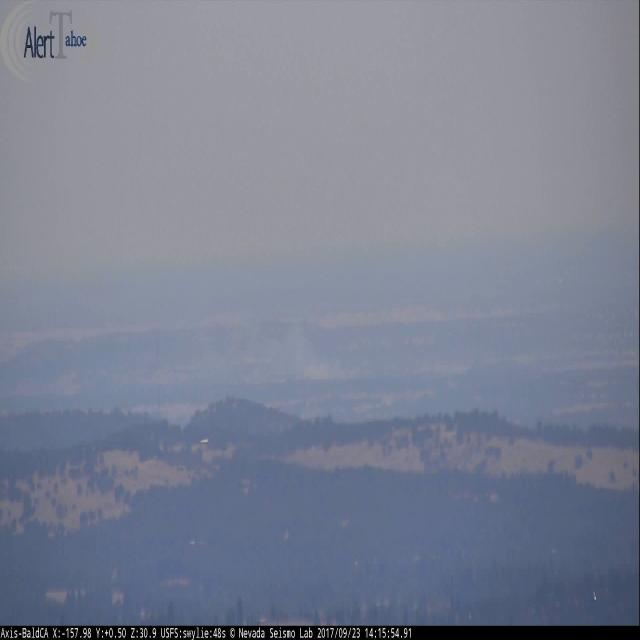smoke: (206, 322, 349, 380)
